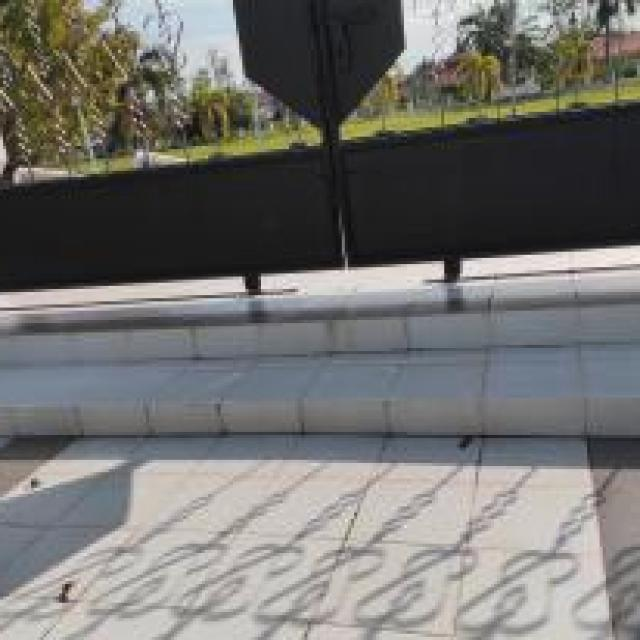upstair: (1, 302, 640, 436)
